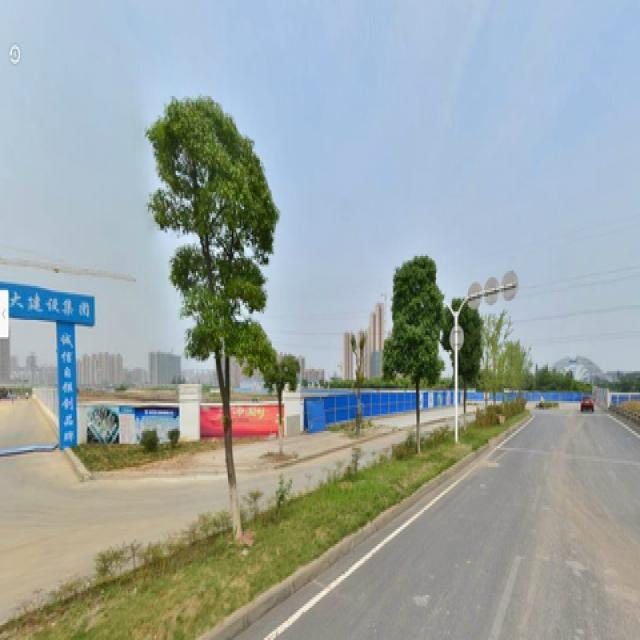cinn: (176, 107, 275, 518), (386, 248, 430, 452)
